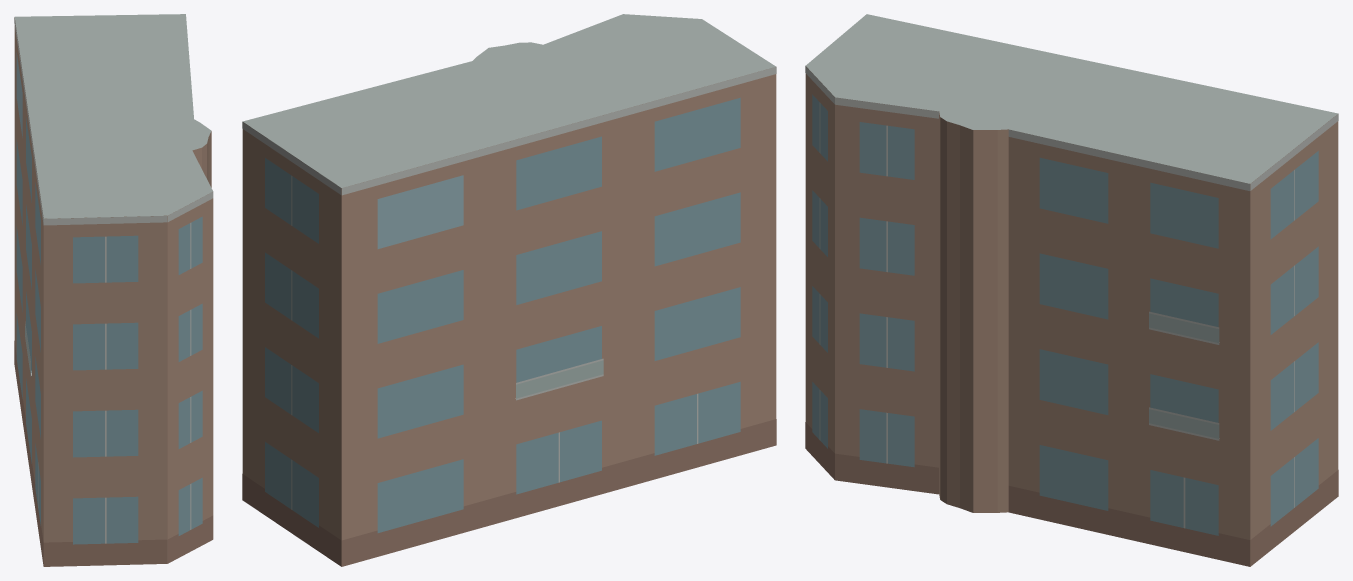
File: survey-upis-32727854.glb
The picture shows the model from 3 angles, left to right: view 1: azimuth 30°, elevation 25°; view 2: azimuth 150°, elevation 25°; view 3: azimuth 270°, elevation 25°; orthographic projection. The views are drawn at different scales.
Visible parts, largest first — view 1: survey-upis-32727854.tmp; view 2: survey-upis-32727854.tmp; view 3: survey-upis-32727854.tmp.
Boxes of the visible parts, box(x1,y1,x2,y2) form: survey-upis-32727854.tmp: box(14, 14, 213, 566); survey-upis-32727854.tmp: box(242, 14, 776, 566); survey-upis-32727854.tmp: box(805, 14, 1338, 566).
Size of the model in its own units: 12.09 by 12.7 by 16.02.
